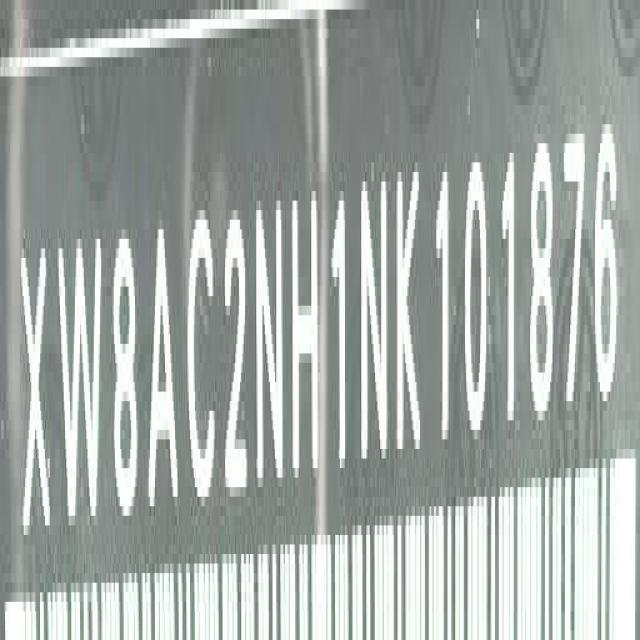0: (460, 148, 487, 454)
1: (432, 150, 452, 461), (502, 144, 520, 443), (329, 175, 346, 486)
2: (224, 196, 250, 509)
6: (593, 114, 618, 409)
7: (561, 120, 588, 426)
8: (114, 226, 140, 528), (528, 129, 554, 429)
A: (146, 209, 178, 523)
C: (188, 208, 218, 515)
H: (291, 182, 318, 492)
K: (395, 156, 425, 467)
N: (361, 146, 390, 464), (257, 193, 286, 501)
W: (58, 226, 100, 541)
X: (20, 234, 48, 556)
